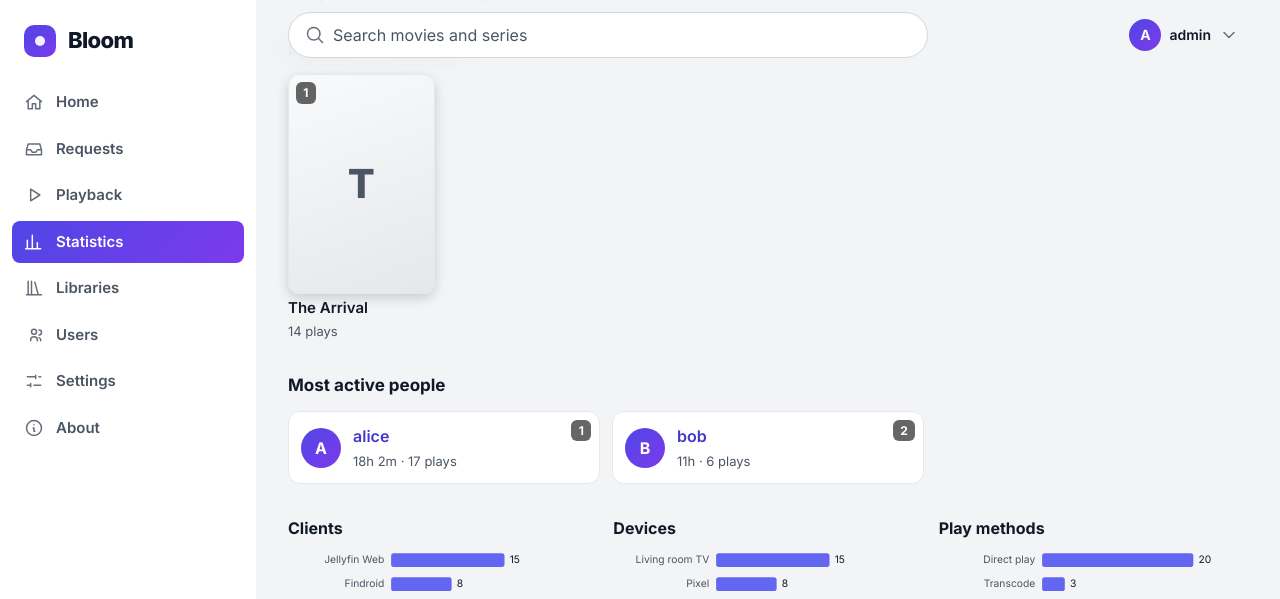
Scenario: reaches a person from the statistics page
(page scrolled)
Click the link "bob": (692, 436) x1=677 y1=426 x2=707 y2=446
(page scrolled)
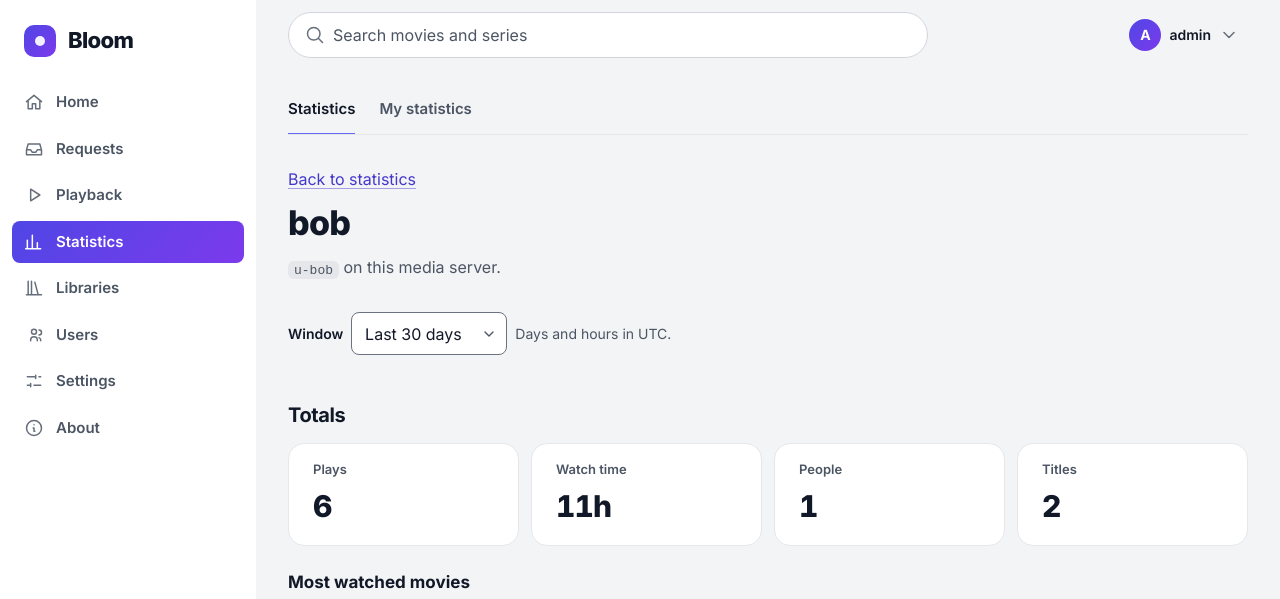
Check: the heading "bob" is shown, box x1=288 y1=202 x2=350 y2=242
